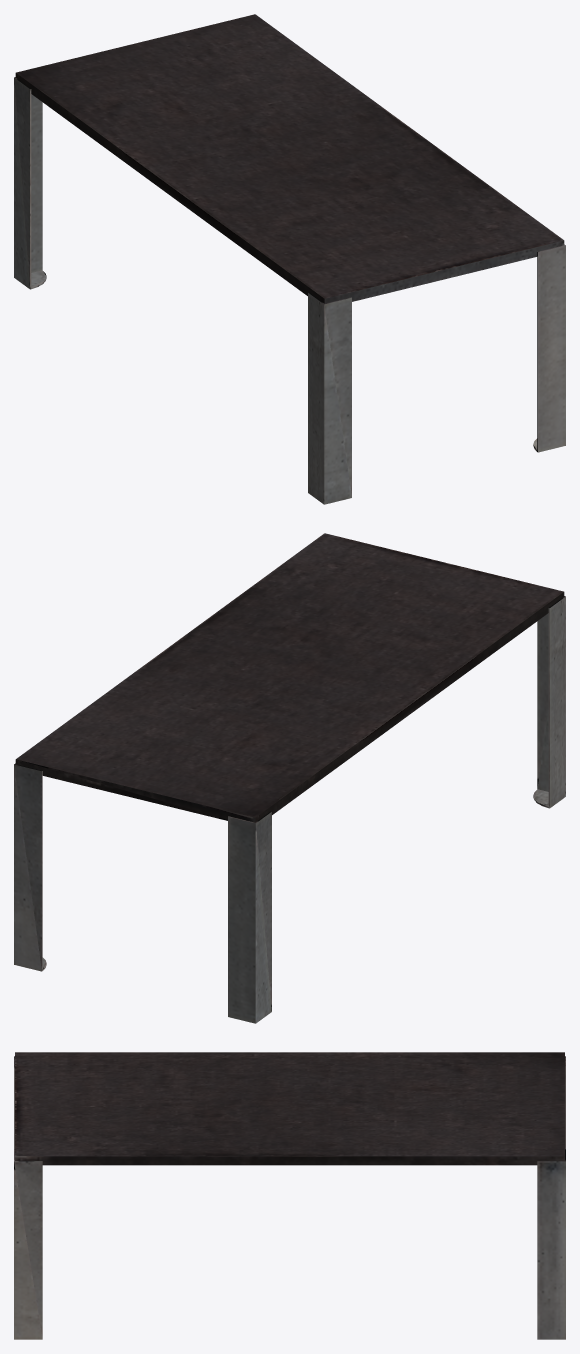
The picture shows the model from 3 angles, top to bottom: view 1: azimuth 30°, elevation 25°; view 2: azimuth 150°, elevation 25°; view 3: azimuth 270°, elevation 25°; orthographic projection. The views are drawn at different scales.
Parts seen in each view (by area): view 1: Node; view 2: Node; view 3: Node.
Part boxes in pixels (bbox=[...]): Node: bbox=[14, 14, 565, 504]; Node: bbox=[14, 533, 565, 1023]; Node: bbox=[14, 1052, 565, 1339].
Bounding box in the file's own units: 0.315 × 0.2555 × 0.7.
Materials: 1 (1 with a texture image).
